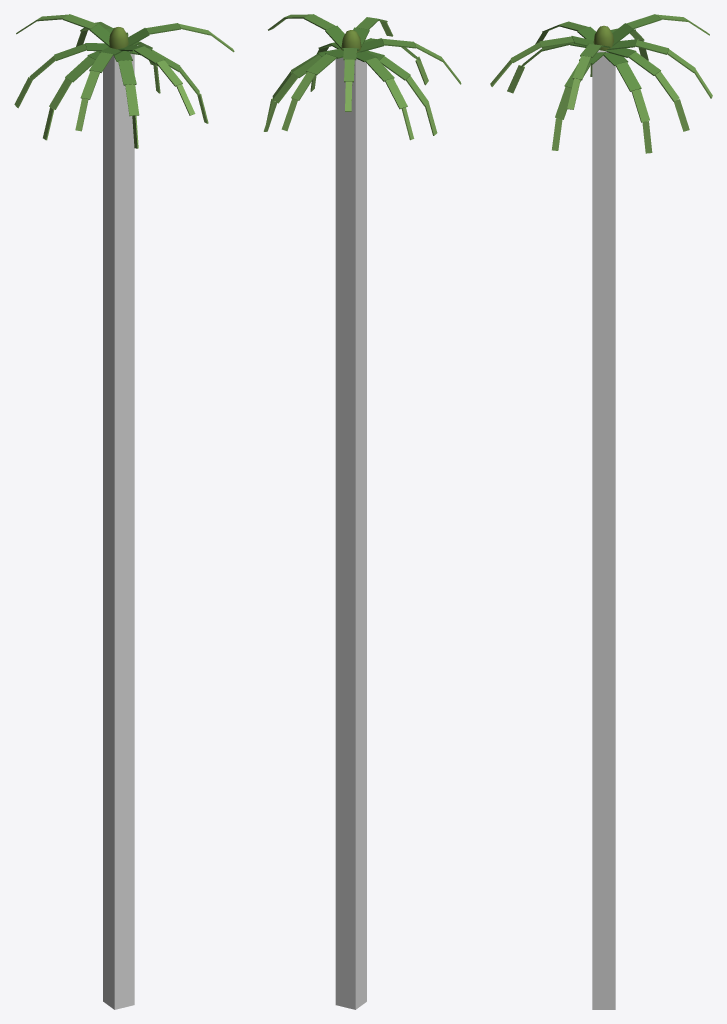
The model's file is palma_de_cera_alta.glb.
The picture shows the model from 3 angles, left to right: view 1: azimuth 30°, elevation 25°; view 2: azimuth 150°, elevation 25°; view 3: azimuth 270°, elevation 25°; orthographic projection.
Visible parts, largest first — view 1: COL_0, palma_de_cera_alta_Malla; view 2: COL_0, palma_de_cera_alta_Malla; view 3: COL_0, palma_de_cera_alta_Malla.
Boxes of the visible parts, x1,y1,x2,y2 form: COL_0: (103,51,134,1009); palma_de_cera_alta_Malla: (14,14,234,148); COL_0: (335,57,366,1009); palma_de_cera_alta_Malla: (263,14,461,140); COL_0: (592,50,615,1009); palma_de_cera_alta_Malla: (490,14,712,153).
Bounding box in the file's own units: 6.35 × 32.7 × 6.74.
